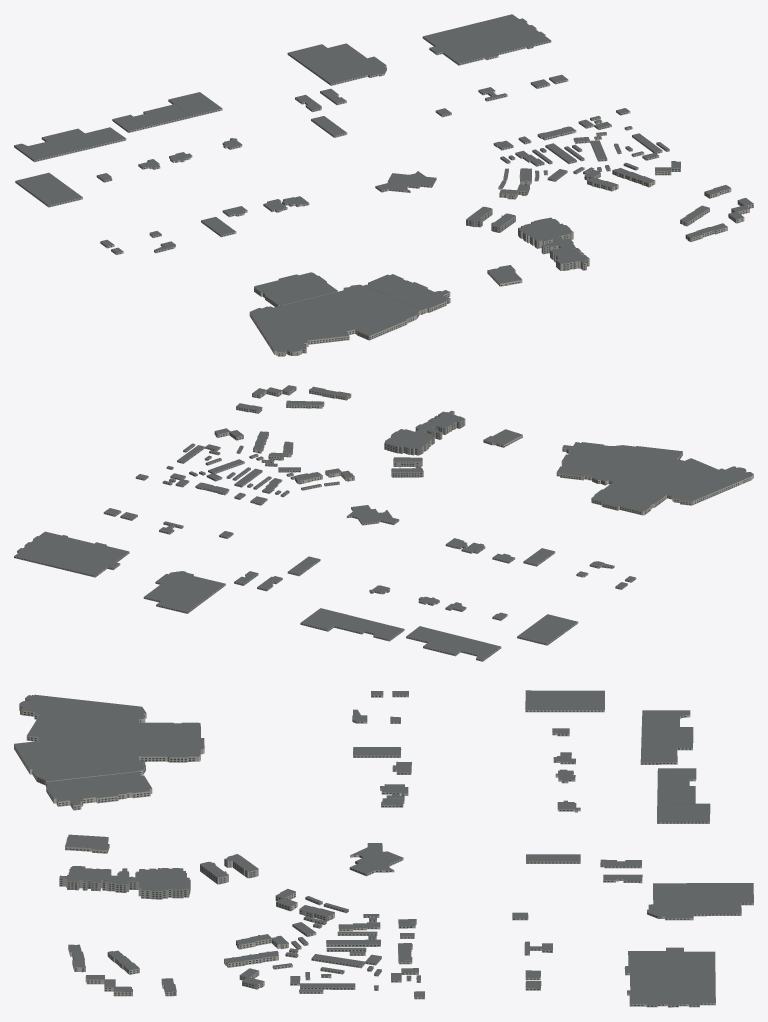
3 renders of one model, top to bottom at view 1: azimuth 30°, elevation 25°; view 2: azimuth 150°, elevation 25°; view 3: azimuth 270°, elevation 25°, orthographic. The views are drawn at different scales.
Parts seen in each view (by area): view 1: Buildings (3, -1) Roof membrane, Buildings (3, -1) Masonry brick, Buildings (3, -1) Architectural tinted glass, Buildings (3, -1) Architectural concrete; view 2: Buildings (3, -1) Roof membrane, Buildings (3, -1) Masonry brick, Buildings (3, -1) Architectural tinted glass, Buildings (3, -1) Architectural concrete; view 3: Buildings (3, -1) Roof membrane, Buildings (3, -1) Masonry brick, Buildings (3, -1) Architectural tinted glass, Buildings (3, -1) Architectural concrete, Buildings (3, -1) Metal coping.
Part boxes in pixels (bbox=[...]): Buildings (3, -1) Roof membrane: bbox=[14, 14, 753, 352]; Buildings (3, -1) Masonry brick: bbox=[14, 22, 753, 356]; Buildings (3, -1) Architectural tinted glass: bbox=[14, 37, 753, 356]; Buildings (3, -1) Architectural concrete: bbox=[466, 209, 589, 270]; Buildings (3, -1) Roof membrane: bbox=[14, 385, 753, 659]; Buildings (3, -1) Masonry brick: bbox=[14, 387, 753, 661]; Buildings (3, -1) Architectural tinted glass: bbox=[14, 388, 750, 660]; Buildings (3, -1) Architectural concrete: bbox=[384, 412, 465, 477]; Buildings (3, -1) Roof membrane: bbox=[14, 690, 753, 1005]; Buildings (3, -1) Masonry brick: bbox=[14, 695, 753, 1007]; Buildings (3, -1) Architectural tinted glass: bbox=[14, 695, 751, 1006]; Buildings (3, -1) Architectural concrete: bbox=[59, 859, 258, 899]; Buildings (3, -1) Metal coping: bbox=[14, 690, 736, 1005].
Bounding box in the file's own units: 1029 × 17.13 × 1026.
